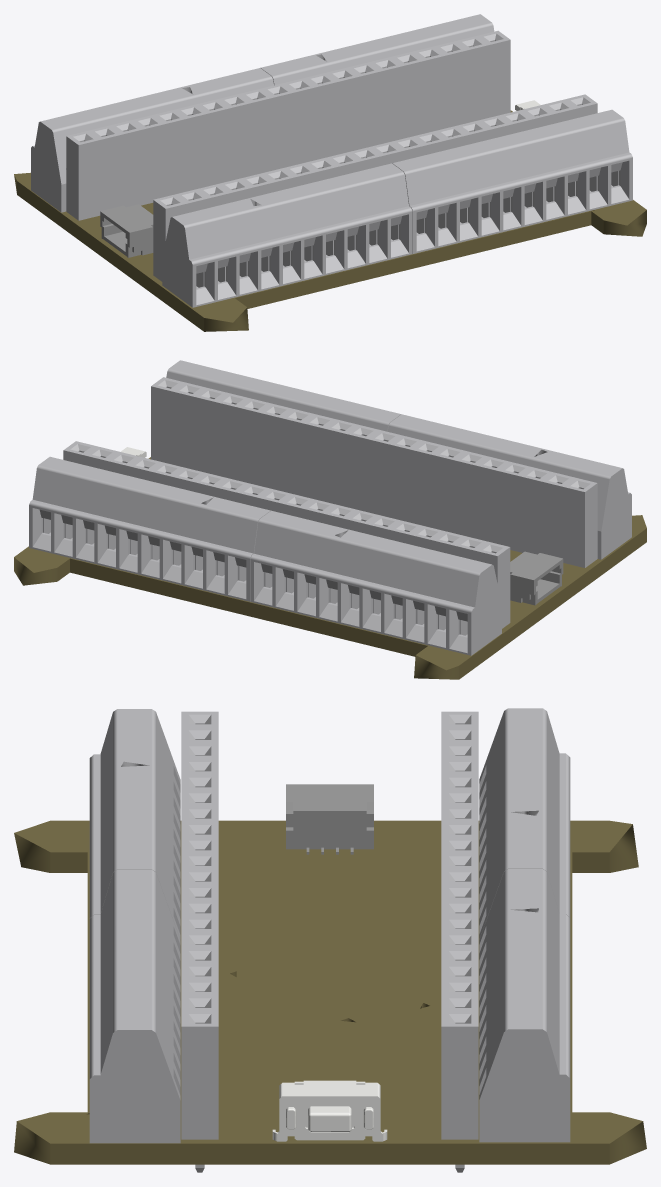
File: ada-5907.glb
3 renders of one model, top to bottom at view 1: azimuth 30°, elevation 25°; view 2: azimuth 150°, elevation 25°; view 3: azimuth 270°, elevation 25°, orthographic. The views are drawn at different scales.
Visible parts, largest first — view 1: 0.5833333333333334_0.5833333333333334_0.5833333333333334_0.8, 0.16666666666666666_0.16666666666666666_0.08333333333333333_, 0.3333333333333333_0.3333333333333333_0.3333333333333333_0; view 2: 0.5833333333333334_0.5833333333333334_0.5833333333333334_0.8, 0.16666666666666666_0.16666666666666666_0.08333333333333333_, 0.3333333333333333_0.3333333333333333_0.3333333333333333_0; view 3: 0.5833333333333334_0.5833333333333334_0.5833333333333334_0.8, 0.16666666666666666_0.16666666666666666_0.08333333333333333_, 0.9166666666666666_0.9166666666666666_0.9166666666666666_0.8, 0.3333333333333333_0.3333333333333333_0.3333333333333333_0.
Part boxes in pixels (box(x1,y1,x2,y2)): 0.5833333333333334_0.5833333333333334_0.5833333333333334_0.8: box(31, 14, 632, 307); 0.16666666666666666_0.16666666666666666_0.08333333333333333_: box(14, 110, 646, 331); 0.3333333333333333_0.3333333333333333_0.3333333333333333_0: box(100, 204, 153, 257); 0.5833333333333334_0.5833333333333334_0.5833333333333334_0.8: box(29, 360, 631, 655); 0.16666666666666666_0.16666666666666666_0.08333333333333333_: box(14, 457, 646, 679); 0.3333333333333333_0.3333333333333333_0.3333333333333333_0: box(510, 551, 563, 605); 0.5833333333333334_0.5833333333333334_0.5833333333333334_0.8: box(89, 708, 570, 1172); 0.16666666666666666_0.16666666666666666_0.08333333333333333_: box(14, 820, 646, 1164); 0.9166666666666666_0.9166666666666666_0.9166666666666666_0.8: box(272, 1080, 387, 1141); 0.3333333333333333_0.3333333333333333_0.3333333333333333_0: box(286, 784, 373, 854).
Bounding box in the file's own units: 5.27 × 1.15 × 4.31.
